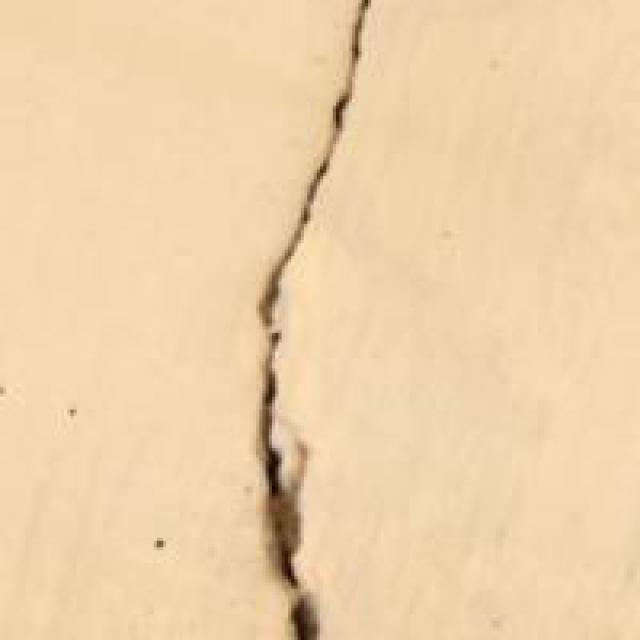Crack: (202, 3, 422, 637)
